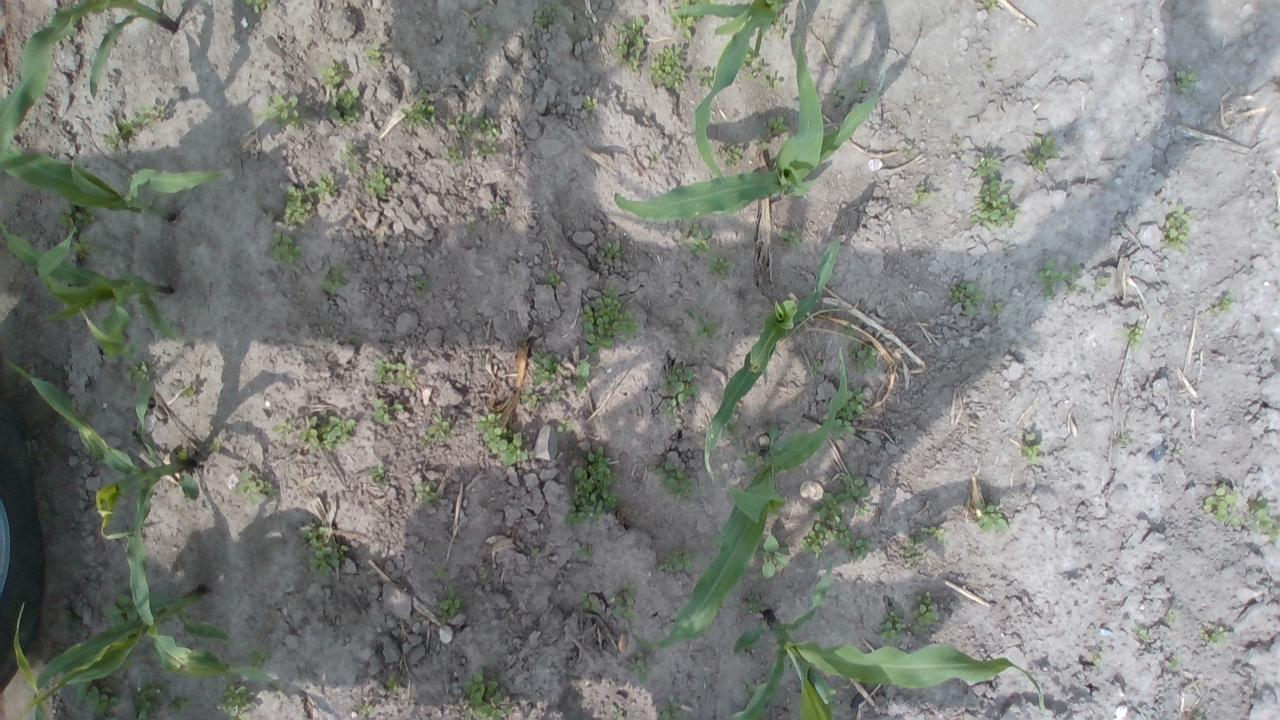Maize: (624, 346, 844, 649), (0, 353, 202, 656), (728, 558, 1042, 720), (617, 34, 887, 218), (13, 584, 286, 720), (706, 234, 840, 480), (0, 0, 179, 153), (0, 209, 181, 359), (670, 0, 794, 182), (0, 140, 224, 225)
Weeds: (799, 475, 873, 564), (562, 446, 618, 526), (582, 283, 642, 355), (967, 152, 1021, 228), (473, 412, 528, 466), (300, 518, 350, 576), (462, 667, 515, 720), (661, 368, 702, 421), (650, 460, 700, 502), (298, 415, 356, 450), (72, 681, 122, 720), (610, 16, 644, 70), (1160, 202, 1194, 256), (1037, 259, 1083, 298), (1245, 492, 1280, 542), (647, 46, 684, 93), (1202, 481, 1240, 526), (258, 93, 304, 130), (756, 532, 790, 579), (400, 87, 437, 130), (119, 102, 168, 134), (234, 470, 278, 505), (266, 230, 306, 265), (134, 679, 168, 720), (213, 686, 254, 720), (1024, 136, 1061, 173), (948, 281, 987, 316), (327, 88, 363, 125), (282, 184, 314, 224), (374, 358, 416, 388), (684, 307, 718, 343), (56, 202, 94, 234), (912, 590, 940, 633), (102, 593, 140, 624), (974, 500, 1010, 532), (658, 548, 700, 574), (434, 585, 462, 624), (680, 221, 712, 254), (362, 166, 394, 198), (876, 608, 906, 642), (316, 59, 351, 88), (530, 351, 560, 384), (422, 415, 457, 443), (628, 650, 654, 686), (611, 583, 636, 620), (319, 263, 349, 293), (848, 341, 878, 371), (371, 398, 404, 424), (68, 234, 103, 258), (836, 386, 864, 416), (474, 110, 502, 140), (341, 140, 364, 174), (445, 112, 472, 139), (532, 2, 560, 28), (1020, 432, 1042, 465), (125, 360, 154, 385), (315, 172, 340, 201), (721, 140, 745, 169), (672, 15, 702, 38), (656, 694, 682, 720), (415, 481, 441, 506), (708, 255, 734, 280), (831, 416, 857, 441), (1118, 321, 1144, 346), (764, 114, 791, 138), (902, 535, 924, 564), (246, 646, 273, 669), (776, 227, 804, 249), (911, 184, 938, 206), (575, 359, 591, 395), (740, 590, 764, 614), (1200, 626, 1228, 646), (1206, 295, 1232, 316), (272, 418, 296, 440), (920, 524, 946, 544), (578, 591, 600, 614), (365, 40, 383, 68), (445, 144, 466, 168), (1175, 70, 1196, 94), (101, 128, 120, 154), (739, 450, 762, 471), (521, 387, 543, 408), (598, 241, 622, 260), (771, 14, 788, 38), (746, 59, 766, 79), (168, 694, 190, 712), (581, 92, 600, 112), (696, 68, 715, 88), (414, 271, 432, 292), (556, 418, 578, 435), (178, 380, 198, 398), (368, 464, 386, 483), (740, 679, 756, 700), (831, 82, 846, 104), (724, 420, 742, 438), (474, 22, 493, 39), (738, 47, 752, 70), (852, 78, 871, 94), (476, 143, 496, 157), (760, 74, 780, 88), (243, 0, 268, 11), (546, 270, 562, 286), (62, 611, 77, 628), (208, 436, 222, 454), (754, 132, 768, 150), (1164, 608, 1178, 626), (839, 322, 856, 336), (1094, 277, 1112, 290), (670, 0, 716, 5), (611, 704, 625, 720), (386, 675, 400, 691), (1136, 626, 1150, 642), (990, 300, 1005, 314), (550, 384, 562, 401), (576, 546, 591, 559), (358, 702, 374, 714), (810, 360, 824, 373), (490, 201, 504, 214), (467, 216, 478, 230), (434, 568, 448, 579), (903, 144, 914, 156), (1169, 658, 1180, 670), (480, 566, 490, 579), (985, 0, 997, 10), (178, 450, 188, 461), (222, 673, 234, 682), (988, 58, 996, 70), (1174, 446, 1184, 455), (531, 549, 540, 558), (651, 152, 659, 160)
